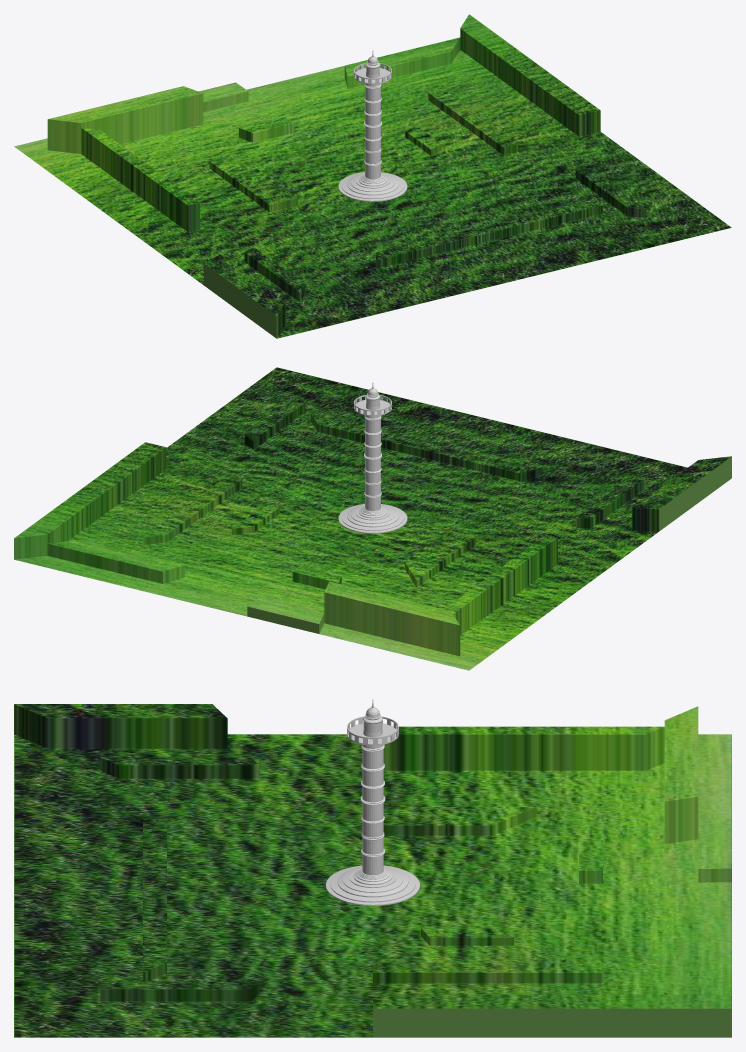
Rendered from cgmodel.obj.
3 renders of one model, top to bottom at view 1: azimuth 30°, elevation 25°; view 2: azimuth 150°, elevation 25°; view 3: azimuth 270°, elevation 25°, orthographic. The views are drawn at different scales.
Visible parts, largest first — view 1: Plane, Circle; view 2: Plane, Circle; view 3: Plane, Circle.
Boxes of the visible parts, <box> form: Plane: <box>14,14,731,338</box>; Circle: <box>338,51,407,201</box>; Plane: <box>14,367,731,670</box>; Circle: <box>338,382,407,533</box>; Plane: <box>14,704,731,1037</box>; Circle: <box>325,699,420,905</box>.
Bounding box in the file's own units: 355 × 102 × 355.
